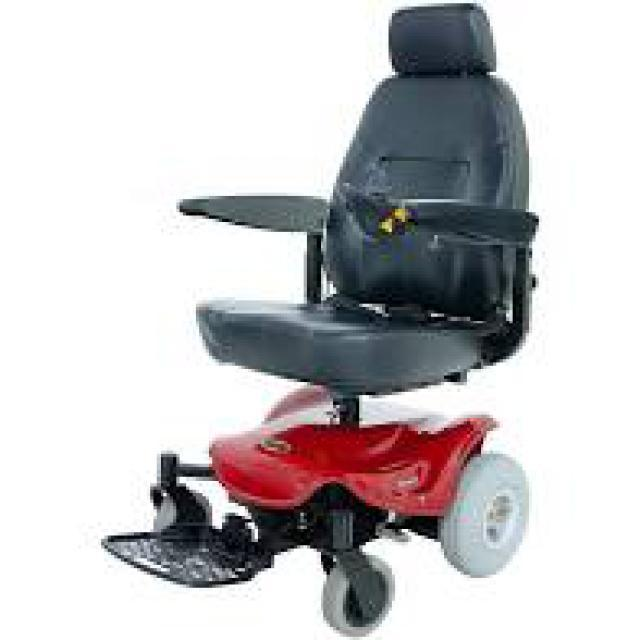wheelchairs: (110, 10, 533, 623)
